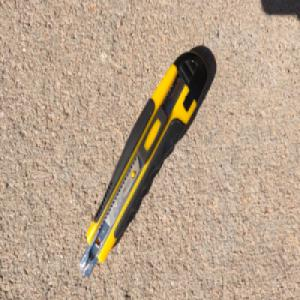Cutter: (78, 48, 209, 278)
